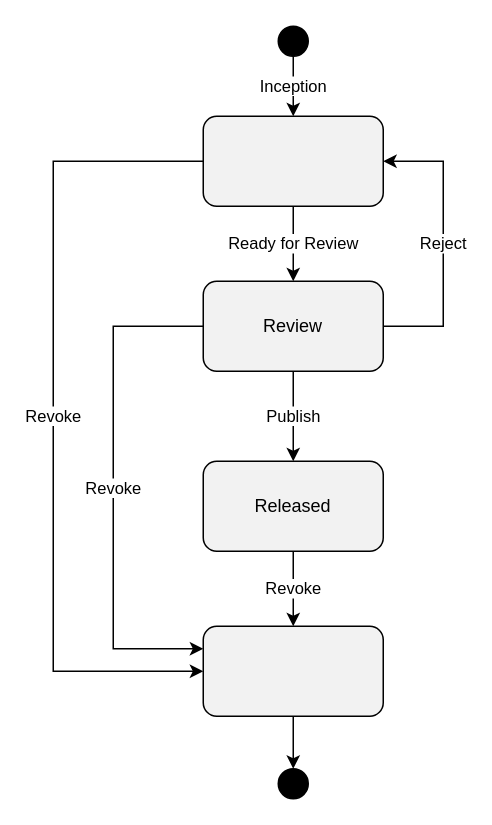
This 492x825 diagram has some shape labels left out. Each missing label, with the centre of its shape:
"Draft" belongs at (x=292, y=160).
"Revoked" belongs at (x=292, y=670).
